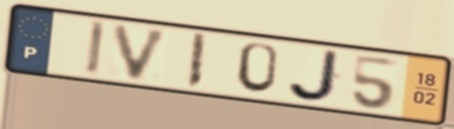0: (232, 41, 280, 96)
5: (349, 52, 397, 113)
I: (183, 31, 210, 92), (83, 18, 109, 79)
J: (286, 48, 344, 104)
V: (110, 22, 174, 84)
